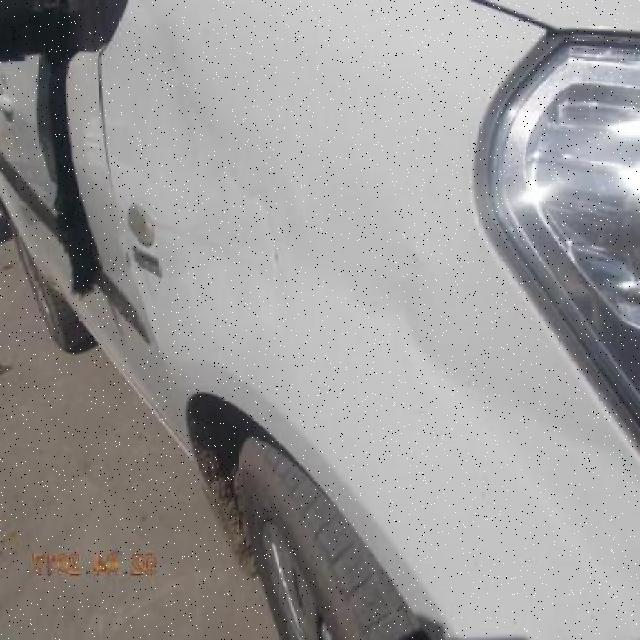damage: (155, 26, 230, 183), (385, 216, 451, 387), (245, 187, 285, 327)
